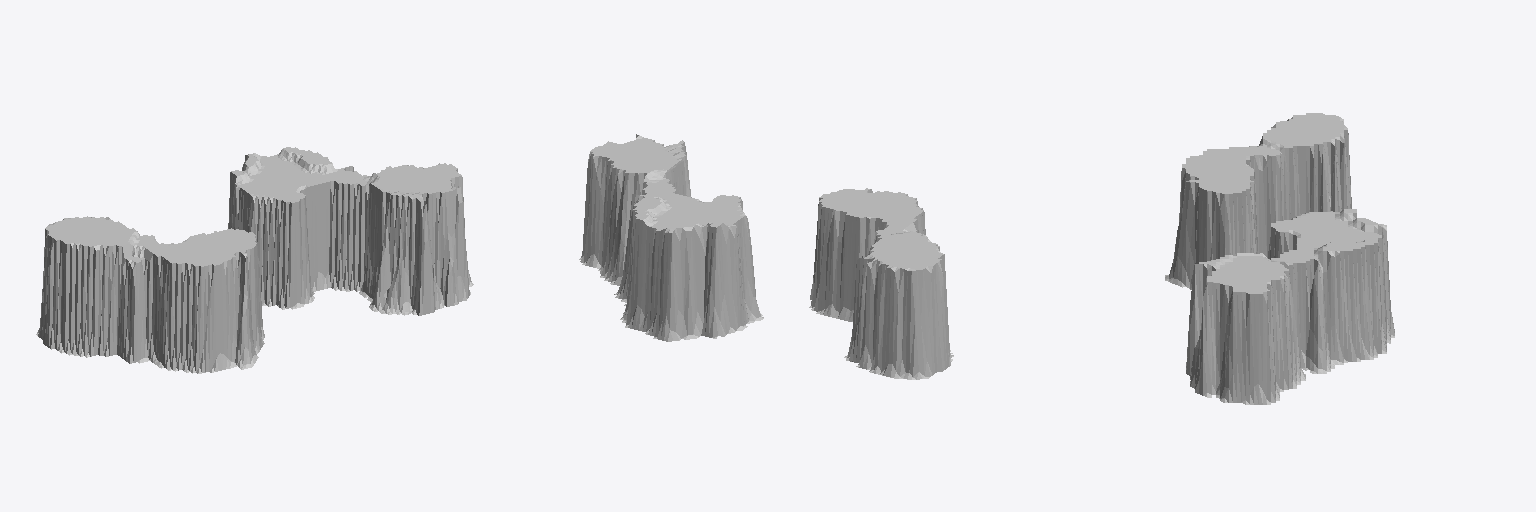
File: Lty_KM.obj
3 views of the same model, side by side, from view 1: azimuth 30°, elevation 25°; view 2: azimuth 150°, elevation 25°; view 3: azimuth 270°, elevation 25° (orthographic).
Visible parts, largest first — view 1: 1; view 2: 1; view 3: 1.
Boxes of the visible parts, box(x1,y1,x2,y2) form: 1: box(36, 147, 473, 373); 1: box(579, 134, 953, 379); 1: box(1165, 113, 1394, 404).
Size of the model in its own units: 43.84 by 11.7 by 22.54.